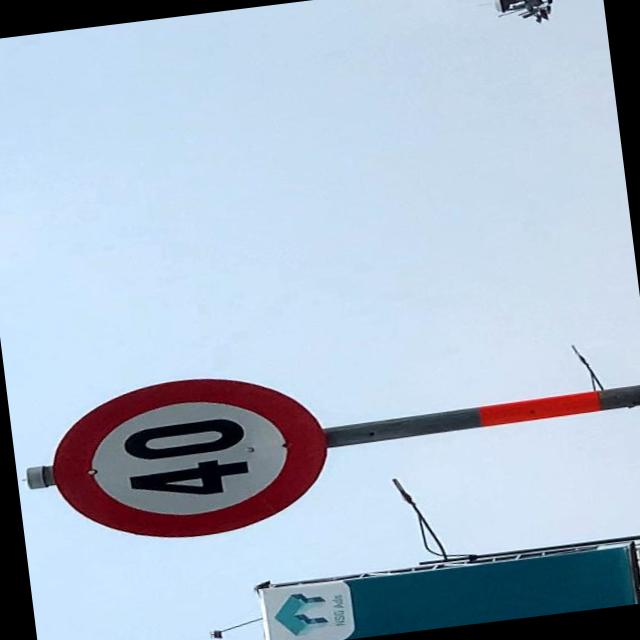P-127: (42, 362, 334, 552)
